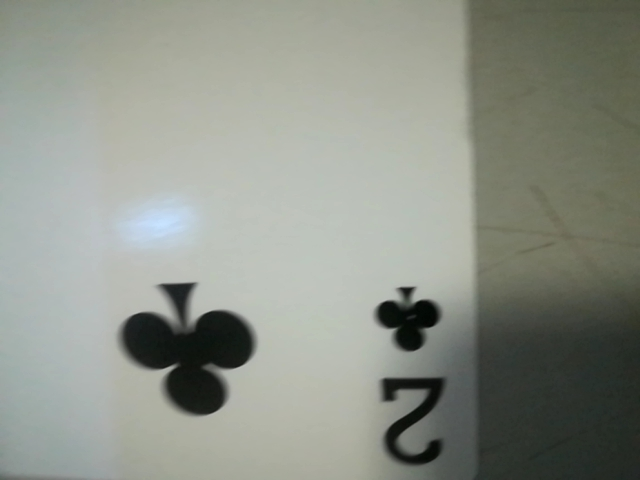mh 2: (357, 268, 470, 480)
